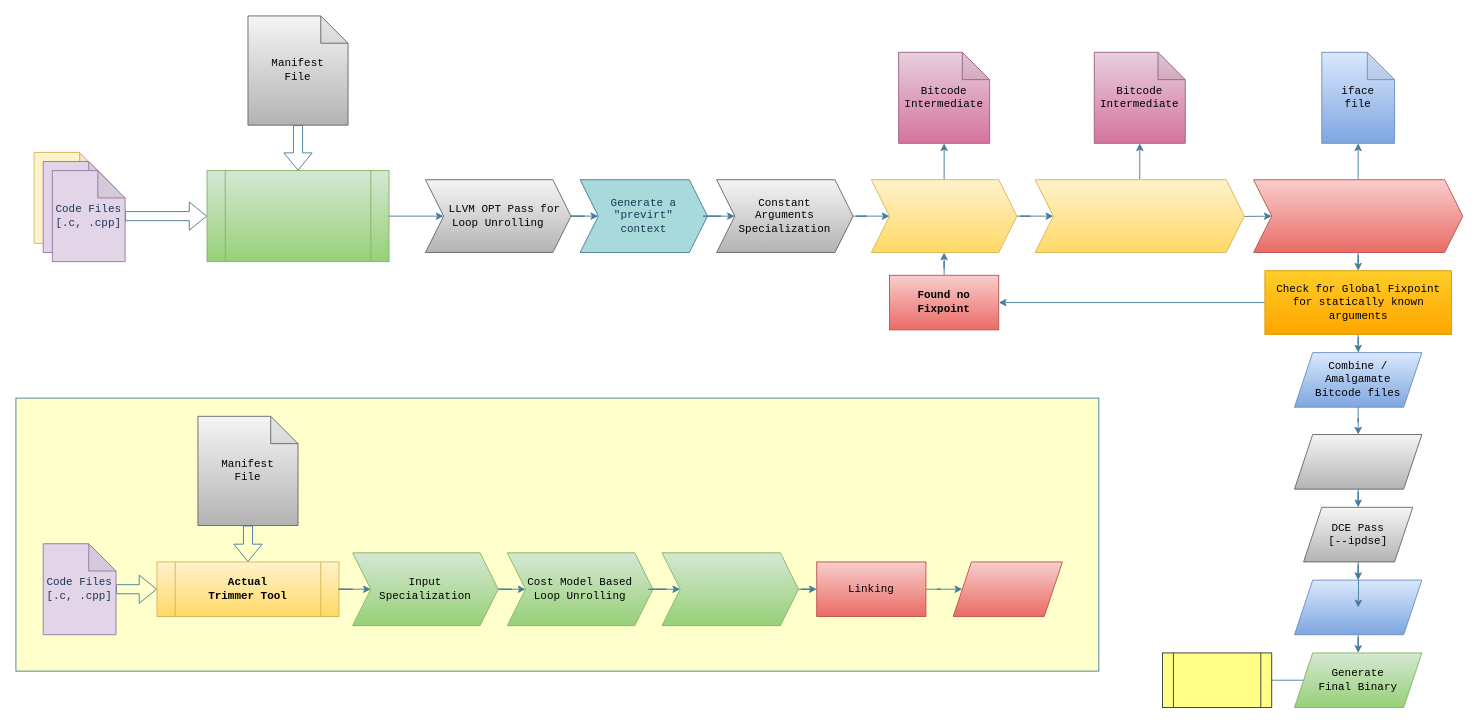
This 1479x723 diagram has some shape labels left out. Here are the shapes that lost their labels. From the top down, the centre of each, then its label:
At point 297,216: "OCCAM Tool [Modification for Trimmer Runs]".
At point 943,216: "Intra Specialization".
At point 1139,216: "Inter Specialization".
At point 1358,216: "Interface Optimization".
At point 1358,461: "LLVM IPSCCP".
At point 730,589: "Modified Constant Propogation".
At point 1007,589: "Binary Generaion".
At point 1358,607: "Pass for Specialized Linking".
At point 1217,680: "Gadgets Set Analyzer".
